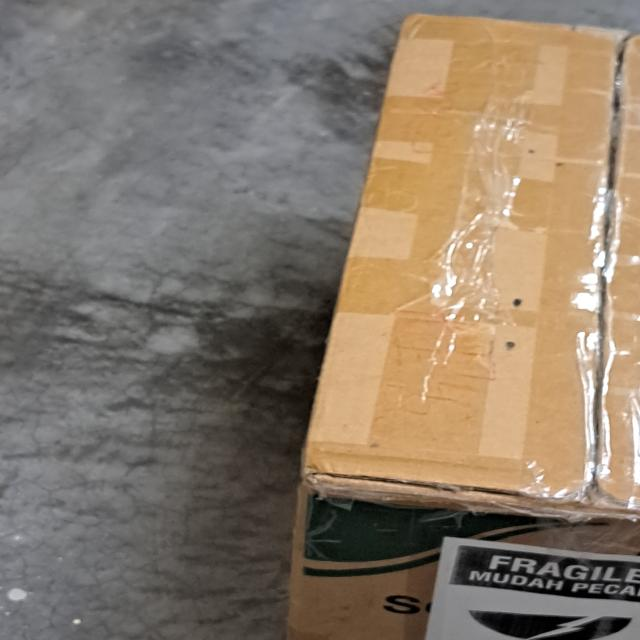cardboard: (292, 13, 640, 639)
